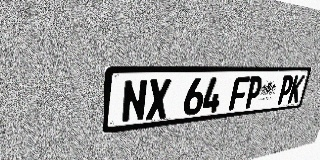4: (201, 77, 224, 114)
6: (182, 78, 206, 116)
F: (228, 76, 250, 110)
K: (287, 75, 305, 103)
N: (121, 79, 148, 123)
P: (243, 76, 264, 109), (276, 75, 295, 105)
X: (145, 79, 171, 120)
